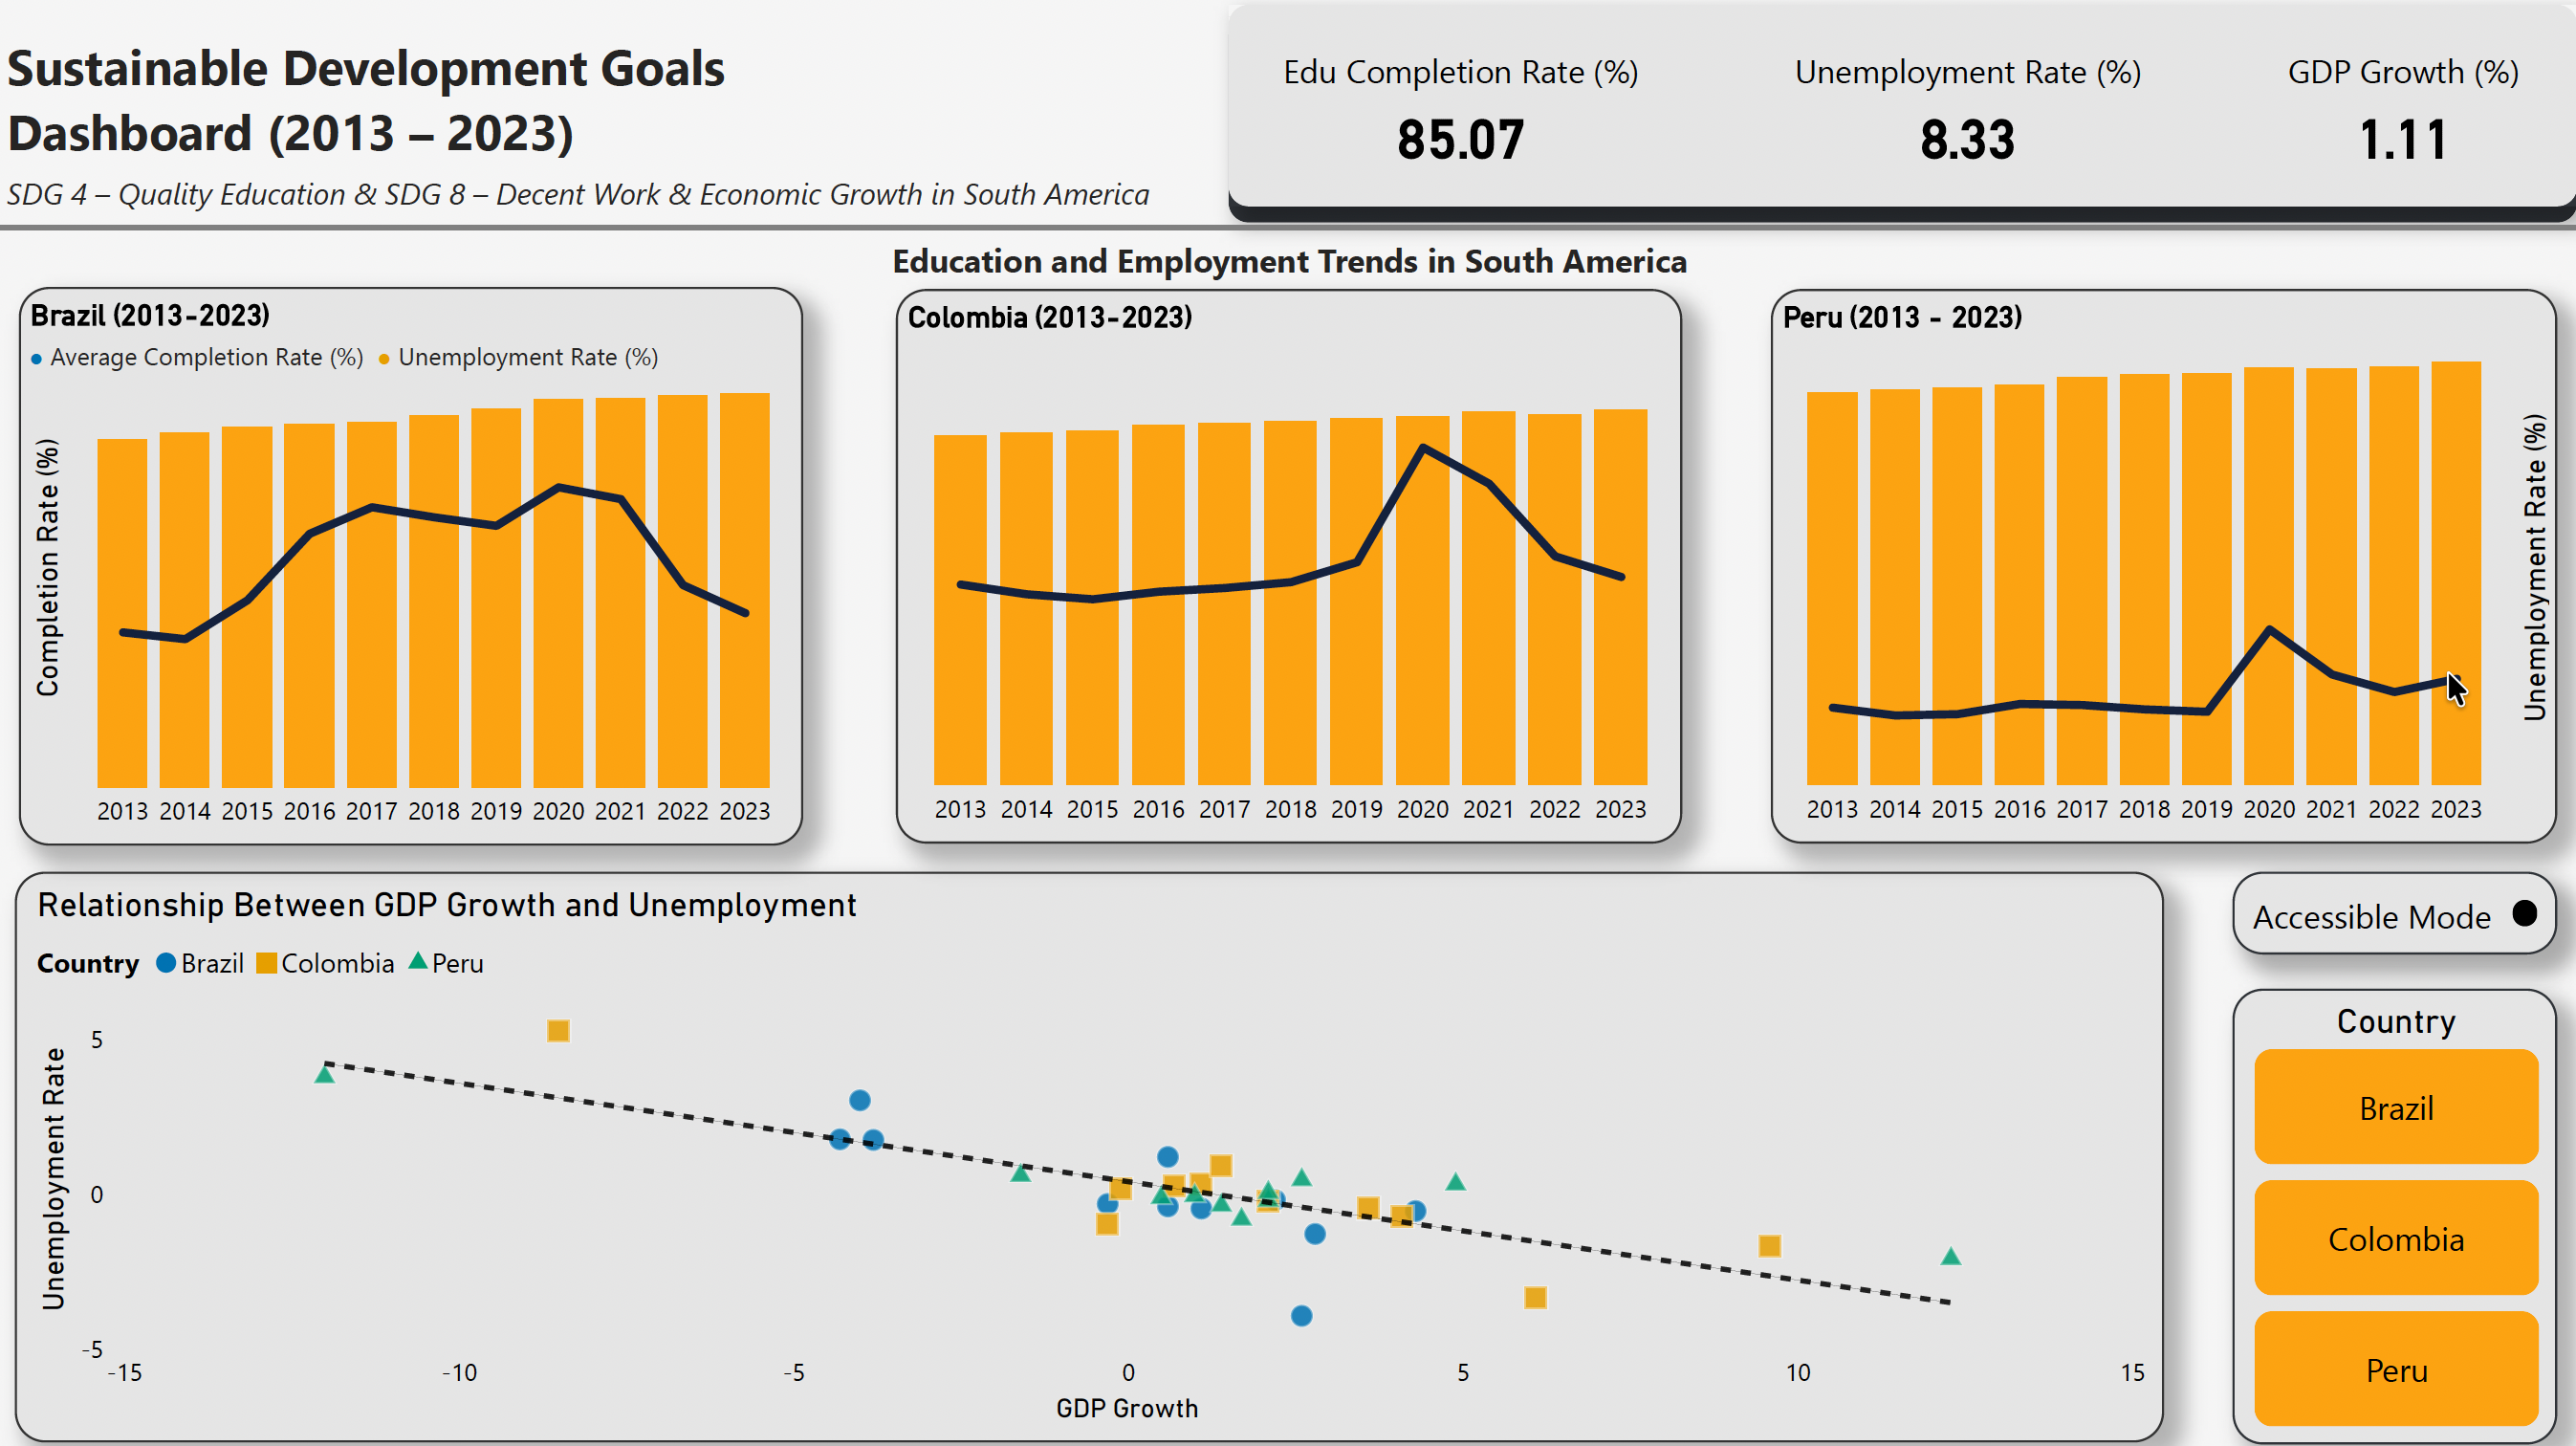

The dashboard page shown, as its layout file describes it:
{"tool":"powerbi","page":{"name":"Dashboard - Normal","canvas":[1280,720],"ordinal":1},"visuals":[{"type":"shape","box":[611.4,8.6,668.6,102.9],"z":0},{"type":"scatterChart","title":"Relationship Between GDP Growth and Unemployment","fields":{"Series":["Indicator 8 5 2 - Unemployment.Country"],"X":["Indicators Merged.GDP Growth (%)"],"Y":["Indicators Merged.Unemployment Rate (%)"]},"box":[8.6,432.5,1066.2,283.6],"z":1000},{"type":"advancedSlicerVisual","fields":{"Values":["CountryTable.Country"]},"box":[1108.6,491.4,161.4,225.7],"z":2000},{"type":"textbox","box":[0,0,611.7,136.7],"z":3000},{"type":"shape","box":[611.4,2.9,668.6,100],"z":4000},{"type":"cardVisual","fields":{"Data":["Indicator 4 1 2 - Education AVG.Avg Completion Rate"]},"box":[611.9,8.1,224.2,90.5],"z":5000},{"type":"cardVisual","fields":{"Data":["Original - Indicator 8 5 2 - Unemployment.Avg Unemployment Rate"]},"box":[868.6,8.1,218.8,90.5],"z":6000},{"type":"cardVisual","fields":{"Data":["Indicator 8 1 1 - GDP Growth.GDP Growth (%)"]},"box":[1113.1,8.1,167.5,90.5],"z":7000},{"type":"textbox","box":[0,81.4,588.6,37.1],"z":8000},{"type":"lineClusteredColumnComboChart","title":"Brazil (2013-2023)","fields":{"Category":["DimYear.Year"],"Y":["Indicator 4 1 2 - Education AVG.Average Completion Rate"],"Y2":["Original - Indicator 8 5 2 - Unemployment.Unemployment Rate (%)"]},"box":[10.8,143,389,276.9],"z":9000},{"type":"lineClusteredColumnComboChart","title":"Colombia (2013-2023)","fields":{"Category":["DimYear.Year"],"Y":["Indicator 4 1 2 - Education AVG.Average Completion Rate"],"Y2":["Original - Indicator 8 5 2 - Unemployment.Unemployment Rate (%)"]},"box":[445.7,143.5,390,275.7],"z":10000},{"type":"lineClusteredColumnComboChart","title":"Peru (2013 - 2023)","fields":{"Category":["DimYear.Year"],"Y":["Indicator 4 1 2 - Education AVG.Average Completion Rate"],"Y2":["Original - Indicator 8 5 2 - Unemployment.Unemployment Rate (%)"]},"box":[880,143.5,390,275.7],"z":11000},{"type":"textbox","box":[10.8,163.5,366.1,28.4],"z":12000},{"type":"shape","box":[0,104.3,1280,18.6],"z":13000},{"type":"textbox","box":[438.6,118.6,474.3,31.4],"z":14000},{"type":"actionButton","title":"Accessible Mode","box":[1108.6,432.9,161.4,41],"z":15000,"group":"g1"},{"type":"shape","box":[1247.2,447.2,12.9,12.9],"z":16000,"group":"g1"},{"type":"group","id":"g1","title":"Group 1","box":[1108.6,432.9,161.4,41],"z":16001}]}

Visuals, with their boxes in screenshot pixels (x1, y1, x2, y2), scaled from the page's 1280x720 canvas onto the 2576x1446 screenshot:
shape: locate(1231, 17, 2575, 224)
"Relationship Between GDP Growth and Unemployment" scatterChart: locate(17, 868, 2163, 1438)
advancedSlicerVisual - CountryTable.Country: locate(2231, 987, 2556, 1440)
textbox: locate(0, 0, 1231, 274)
shape: locate(1231, 6, 2575, 207)
cardVisual - Indicator 4 1 2 - Education AVG.Avg Completion Rate: locate(1232, 16, 1683, 198)
cardVisual - Original - Indicator 8 5 2 - Unemployment.Avg Unemployment Rate: locate(1748, 16, 2189, 198)
cardVisual - Indicator 8 1 1 - GDP Growth.GDP Growth (%): locate(2240, 16, 2575, 198)
textbox: locate(0, 164, 1185, 238)
"Brazil (2013-2023)" lineClusteredColumnComboChart: locate(22, 287, 804, 843)
"Colombia (2013-2023)" lineClusteredColumnComboChart: locate(897, 288, 1682, 842)
"Peru (2013 - 2023)" lineClusteredColumnComboChart: locate(1771, 288, 2556, 842)
textbox: locate(22, 328, 758, 385)
shape: locate(0, 209, 2575, 247)
textbox: locate(883, 238, 1837, 301)
"Accessible Mode" actionButton: locate(2231, 869, 2556, 952)
shape: locate(2510, 898, 2536, 924)
"Group 1" group: locate(2231, 869, 2556, 952)
